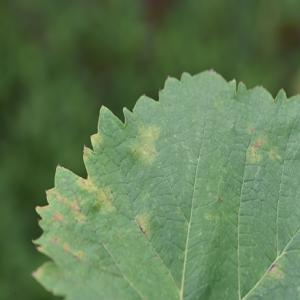Folha: (27, 64, 298, 300)
Fungo: (130, 121, 162, 165), (251, 131, 268, 157), (267, 147, 283, 164), (134, 214, 146, 234), (252, 140, 260, 156), (217, 189, 223, 203), (249, 126, 254, 135)
